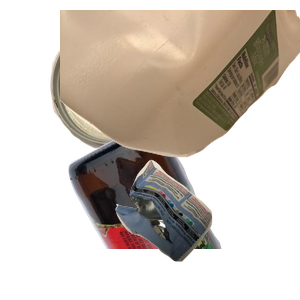glass: (66, 120, 300, 300)
metal: (47, 16, 214, 157)
plastic: (60, 10, 300, 160)
trash: (113, 157, 300, 300)
